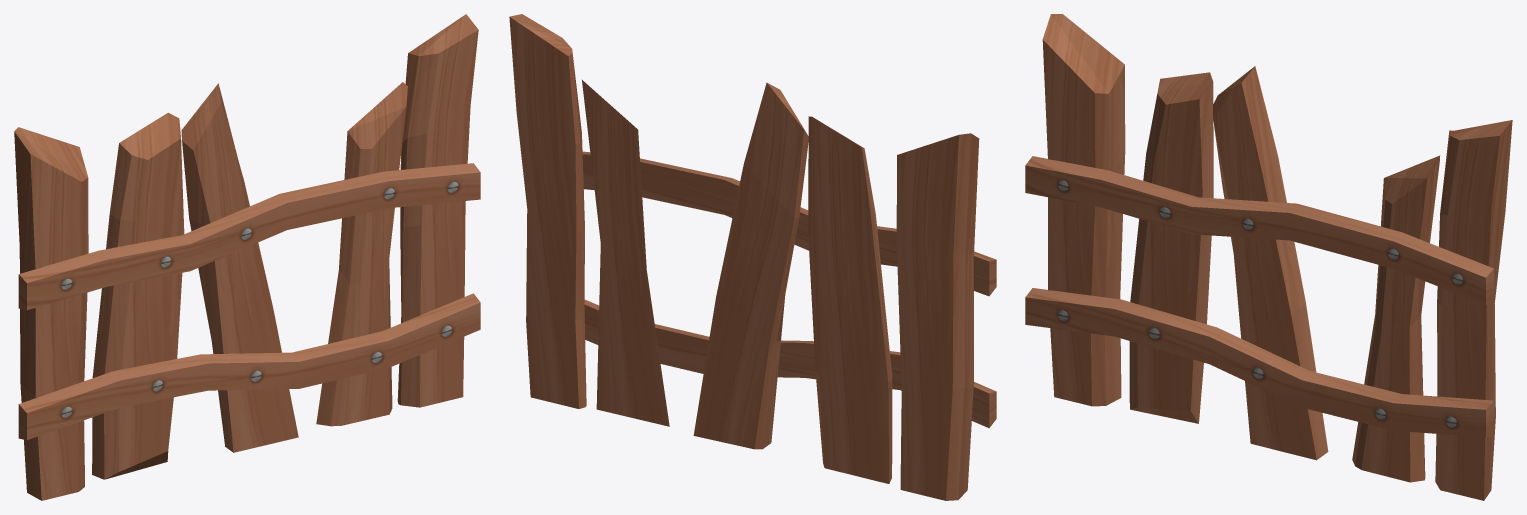
The model's file is Fence_02.fbx.
3 views of the same model, side by side, from view 1: azimuth 30°, elevation 25°; view 2: azimuth 150°, elevation 25°; view 3: azimuth 330°, elevation 25° (orthographic).
Visible parts, largest first — view 1: Fence_02; view 2: Fence_02; view 3: Fence_02.
Part boxes in pixels (box(x1,y1,x2,y2)): Fence_02: box(14, 14, 480, 500); Fence_02: box(509, 14, 996, 500); Fence_02: box(1025, 14, 1512, 500).
Size of the model in its own units: 69.99 by 53.79 by 6.83.
1 material, 1 textured.
